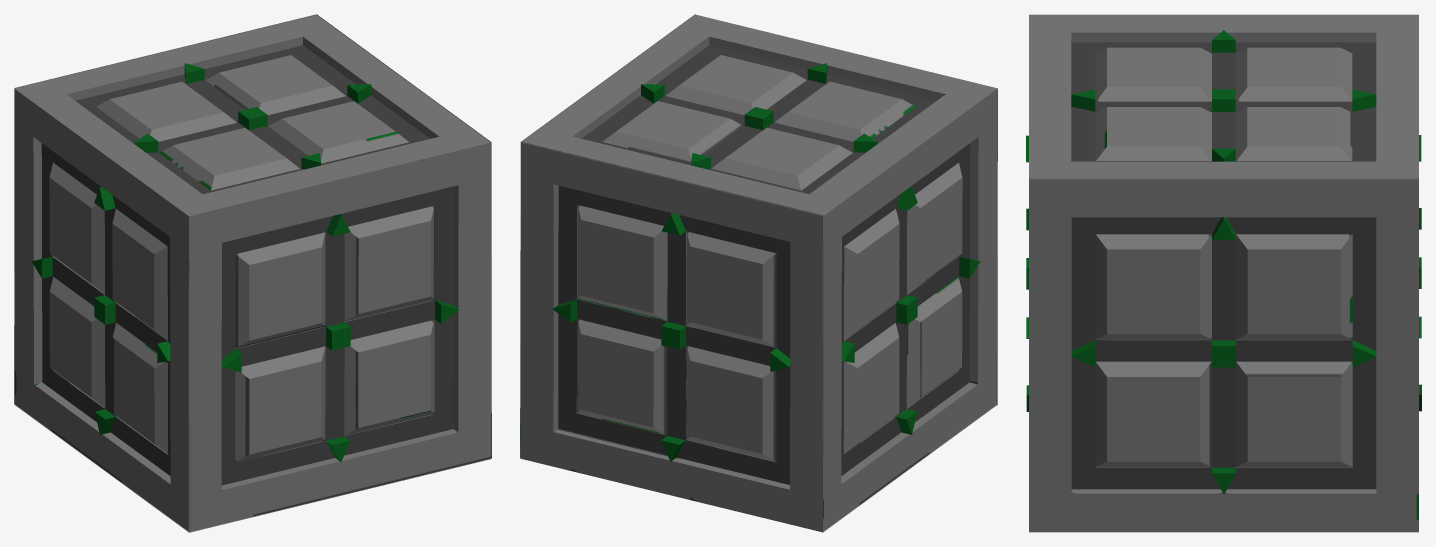
Rendered from BoxModel.fbx.
The picture shows the model from 3 angles, left to right: view 1: azimuth 30°, elevation 25°; view 2: azimuth 150°, elevation 25°; view 3: azimuth 270°, elevation 25°; orthographic projection. The views are drawn at different scales.
Parts seen in each view (by area): view 1: Cube; view 2: Cube; view 3: Cube.
Part boxes in pixels (<box>): Cube: <box>14,14,491,532</box>; Cube: <box>520,14,997,532</box>; Cube: <box>1026,14,1421,532</box>.
Size of the model in its own units: 609 by 608 by 609.
